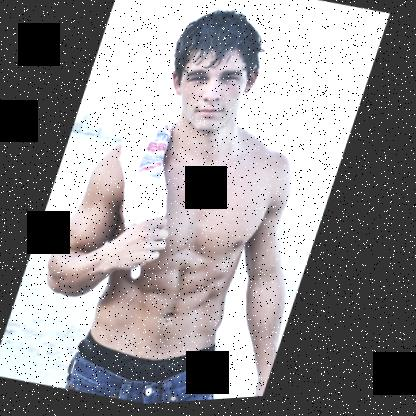Male: (157, 36, 267, 142)
